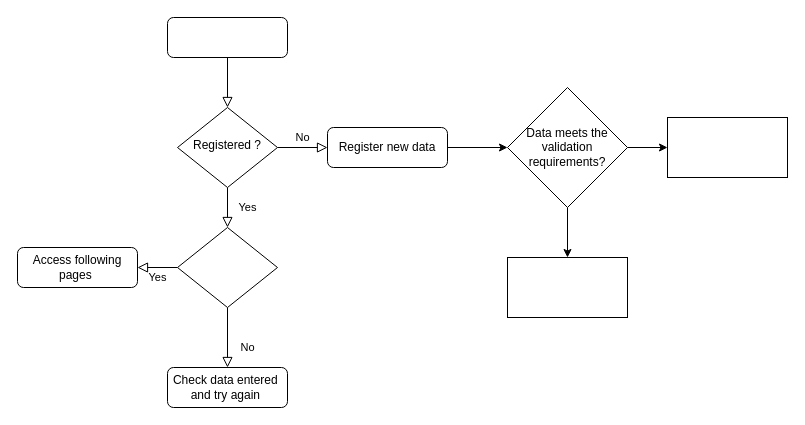
The diagram is 805 pixels wide and 425 high, and some of its shapes have lost their labels. The shapes that lost their labels are listed below. From the top down, each one's centre as x and y in pixels, then its label:
the point at 227,37: Not logged in?
the point at 227,267: Login data correct ?
